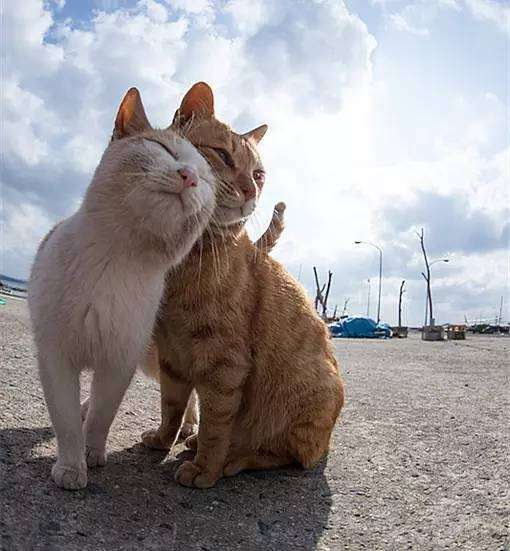cat: (140, 82, 346, 487), (29, 88, 216, 491)
